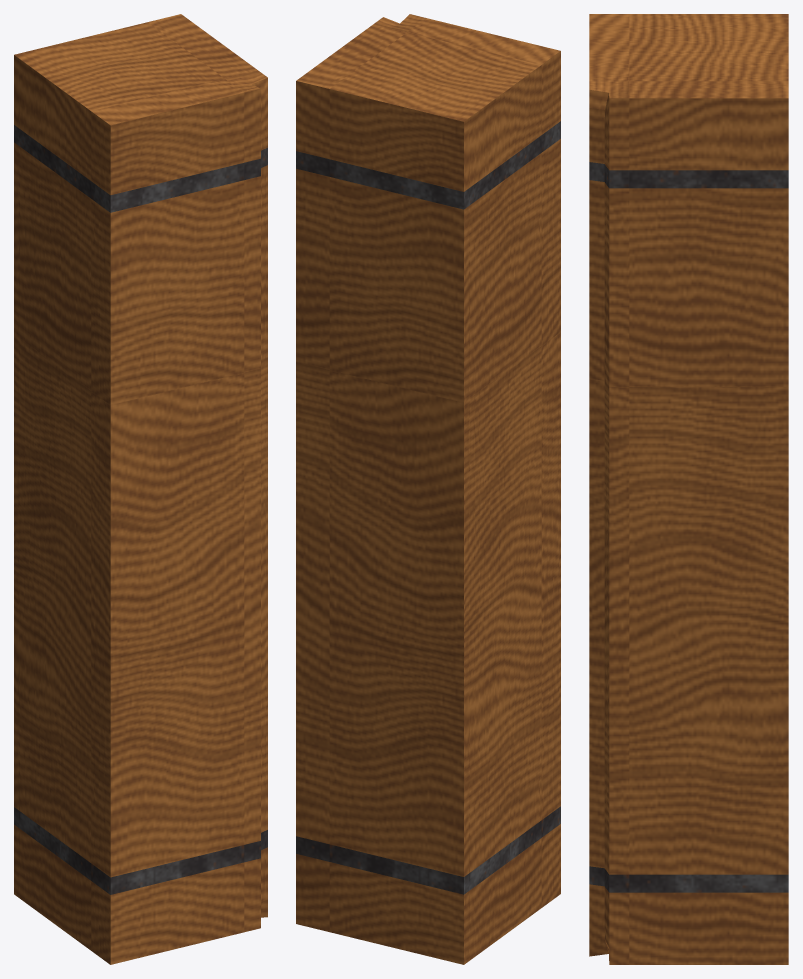
The model's file is post_timber.glb.
The picture shows the model from 3 angles, left to right: view 1: azimuth 30°, elevation 25°; view 2: azimuth 150°, elevation 25°; view 3: azimuth 270°, elevation 25°; orthographic projection. The views are drawn at different scales.
Visible parts, largest first — view 1: town_post_timber; view 2: town_post_timber; view 3: town_post_timber.
Boxes of the visible parts, left/top/right/bottom form: town_post_timber: left=14, top=14, right=267, bottom=964; town_post_timber: left=296, top=14, right=560, bottom=964; town_post_timber: left=589, top=14, right=788, bottom=964.
Size of the model in its own units: 0.3125 by 1.5 by 0.3125.
Materials: 1 (1 with a texture image).
